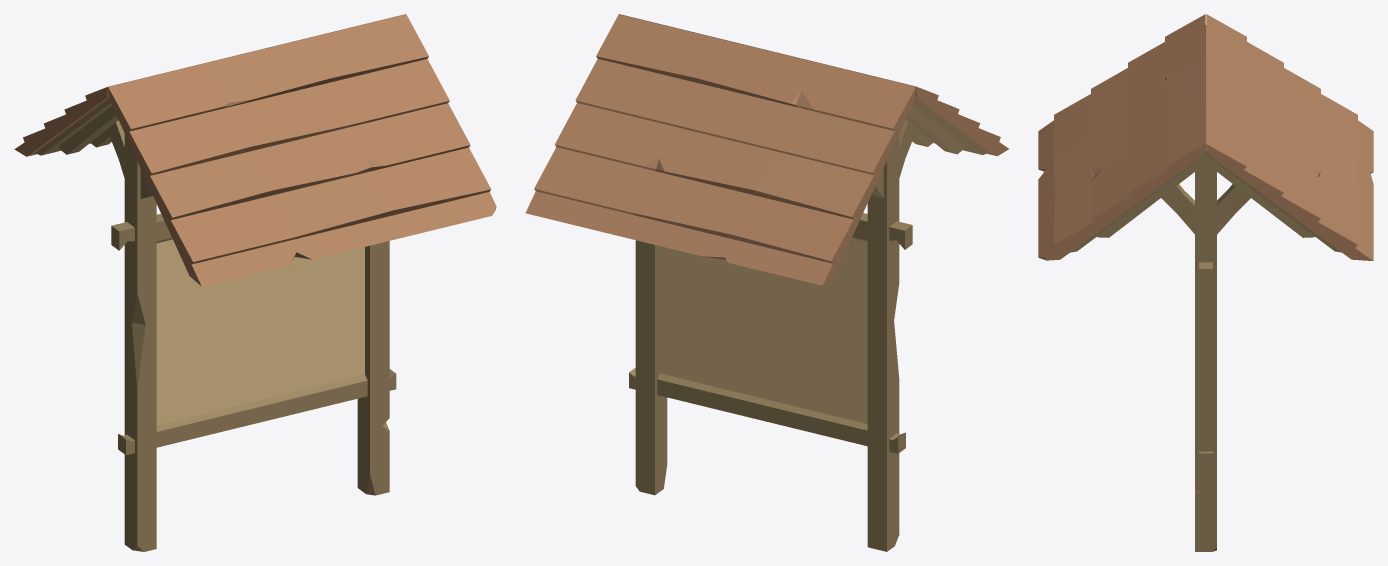
Rendered from board.glb.
3 renders of one model, left to right at view 1: azimuth 30°, elevation 25°; view 2: azimuth 150°, elevation 25°; view 3: azimuth 270°, elevation 25°, orthographic. The views are drawn at different scales.
Visible parts, largest first — view 1: ParkInfoBoard; view 2: ParkInfoBoard; view 3: ParkInfoBoard.
Boxes of the visible parts, x1,y1,x2,y2 form: ParkInfoBoard: [14, 14, 496, 551]; ParkInfoBoard: [525, 14, 1008, 551]; ParkInfoBoard: [1038, 14, 1373, 551].
Size of the model in its own units: 1.11 by 1.66 by 1.21.
